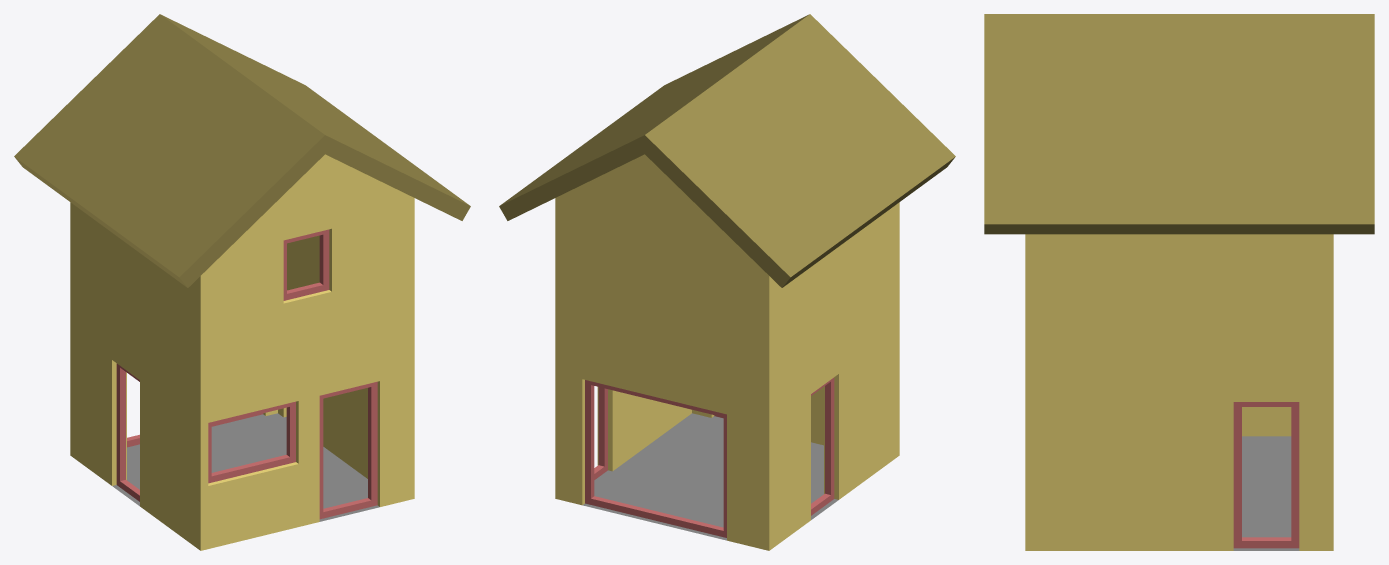
File: result.glb
3 views of the same model, side by side, from view 1: azimuth 30°, elevation 25°; view 2: azimuth 150°, elevation 25°; view 3: azimuth 270°, elevation 25° (orthographic). The views are drawn at different scales.
Visible parts, largest first — view 1: 53d93015-60e1-4bed-b55f-4a957dcdb653__undefined, f7f569c2-8a92-49cf-aaca-b84942daeb07__undefined (×2), 50d8cda1-fa07-4c0e-b432-7666e60e4d0d__Plane_8, e92f2381-dcdb-4ba4-aa29-005f2a8e496a__Box, 36c084d3-0817-4097-b44a-98821fa5504c__Box_3, 1b318c43-dacd-41aa-a2c1-ce866eee855b__Box_12, 8dec105e-7c6a-4bb4-9c5a-5196f902de03__Box_6; view 2: 53d93015-60e1-4bed-b55f-4a957dcdb653__undefined, f7f569c2-8a92-49cf-aaca-b84942daeb07__undefined (×2), 50d8cda1-fa07-4c0e-b432-7666e60e4d0d__Plane_8, 78bccf1c-25ae-4935-a168-6f21fafa5b44__Box_9, 1b318c43-dacd-41aa-a2c1-ce866eee855b__Box_12, b3ccdf7c-1d83-43d3-81e4-a8811faed284__Box_18; view 3: 53d93015-60e1-4bed-b55f-4a957dcdb653__undefined, f7f569c2-8a92-49cf-aaca-b84942daeb07__undefined, 50d8cda1-fa07-4c0e-b432-7666e60e4d0d__Plane_8, b3ccdf7c-1d83-43d3-81e4-a8811faed284__Box_18.
Part boxes in pixels (box(x1,y1,x2,y2)): 53d93015-60e1-4bed-b55f-4a957dcdb653__undefined: box(70, 154, 414, 550); f7f569c2-8a92-49cf-aaca-b84942daeb07__undefined (×2): box(14, 14, 470, 287); 50d8cda1-fa07-4c0e-b432-7666e60e4d0d__Plane_8: box(112, 413, 379, 521); e92f2381-dcdb-4ba4-aa29-005f2a8e496a__Box: box(319, 381, 377, 519); 36c084d3-0817-4097-b44a-98821fa5504c__Box_3: box(208, 401, 295, 483); 1b318c43-dacd-41aa-a2c1-ce866eee855b__Box_12: box(116, 363, 139, 501); 8dec105e-7c6a-4bb4-9c5a-5196f902de03__Box_6: box(283, 229, 329, 300); 53d93015-60e1-4bed-b55f-4a957dcdb653__undefined: box(555, 154, 899, 550); f7f569c2-8a92-49cf-aaca-b84942daeb07__undefined (×2): box(499, 14, 955, 287); 50d8cda1-fa07-4c0e-b432-7666e60e4d0d__Plane_8: box(582, 413, 838, 540); 78bccf1c-25ae-4935-a168-6f21fafa5b44__Box_9: box(585, 380, 726, 537); 1b318c43-dacd-41aa-a2c1-ce866eee855b__Box_12: box(811, 377, 834, 515); b3ccdf7c-1d83-43d3-81e4-a8811faed284__Box_18: box(594, 387, 607, 479); 53d93015-60e1-4bed-b55f-4a957dcdb653__undefined: box(1025, 234, 1333, 550); f7f569c2-8a92-49cf-aaca-b84942daeb07__undefined: box(984, 14, 1374, 234); 50d8cda1-fa07-4c0e-b432-7666e60e4d0d__Plane_8: box(1233, 436, 1299, 550); b3ccdf7c-1d83-43d3-81e4-a8811faed284__Box_18: box(1233, 402, 1299, 548).
Bounding box in the file's own units: 484 × 638 × 475.
